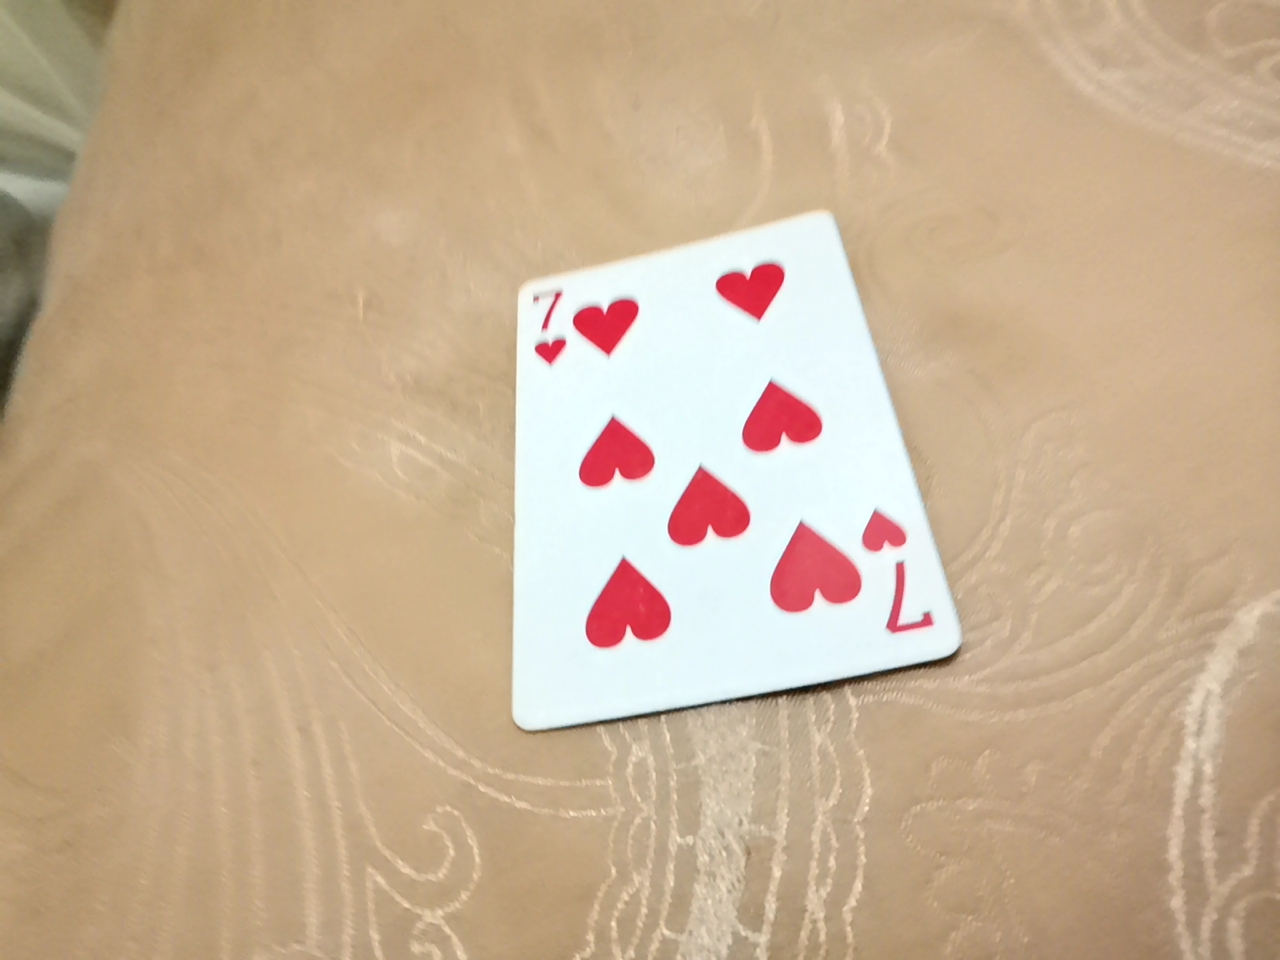hx 7: (468, 248, 929, 807)
